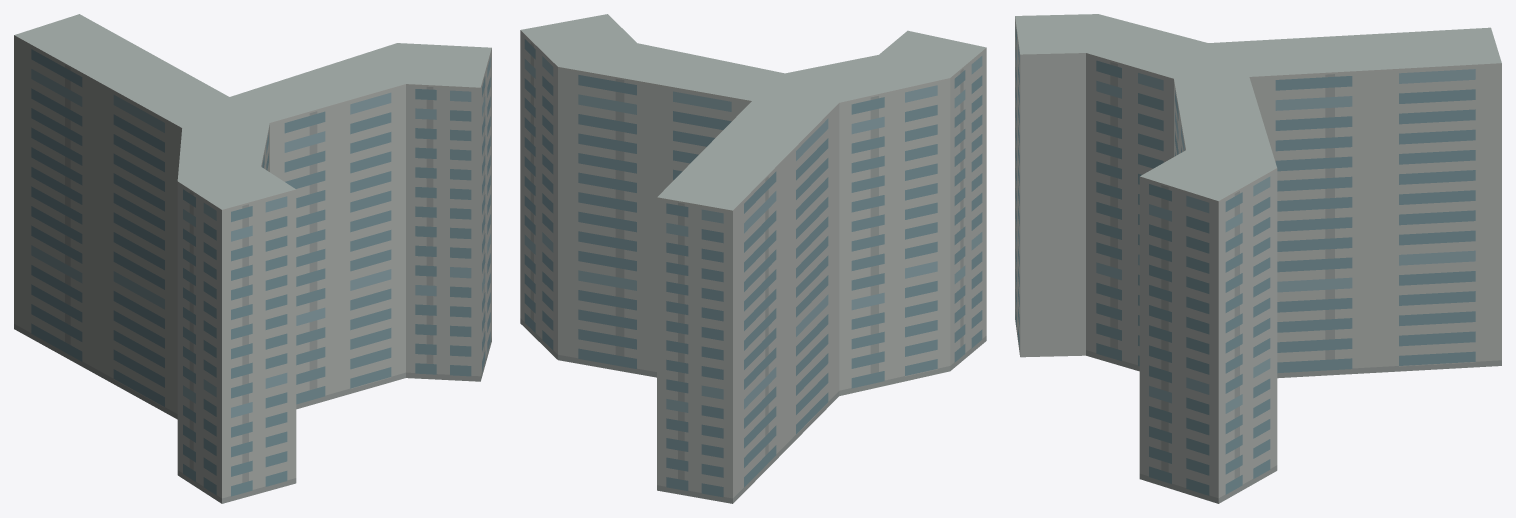
File: residential-04678d6f-dc91-4823-a1c8-e28b6547f2aa.glb
The picture shows the model from 3 angles, left to right: view 1: azimuth 30°, elevation 25°; view 2: azimuth 150°, elevation 25°; view 3: azimuth 270°, elevation 25°; orthographic projection. The views are drawn at different scales.
Visible parts, largest first — view 1: residential-04678d6f-dc91-4823-a1c8-e28b6547f2aa.tmp; view 2: residential-04678d6f-dc91-4823-a1c8-e28b6547f2aa.tmp; view 3: residential-04678d6f-dc91-4823-a1c8-e28b6547f2aa.tmp.
Part boxes in pixels (x1=…): residential-04678d6f-dc91-4823-a1c8-e28b6547f2aa.tmp: x1=14, y1=14, x2=491, y2=503; residential-04678d6f-dc91-4823-a1c8-e28b6547f2aa.tmp: x1=520, y1=14, x2=986, y2=503; residential-04678d6f-dc91-4823-a1c8-e28b6547f2aa.tmp: x1=1015, y1=14, x2=1501, y2=503.
Bounding box in the file's own units: 55.71 × 42 × 61.23.
